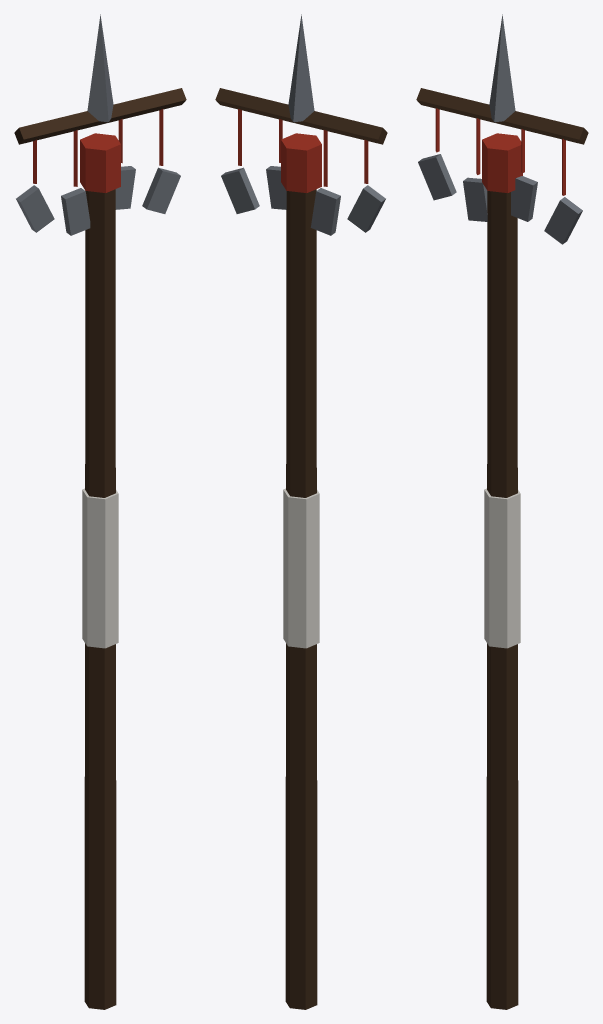
The model's file is weapon_staff.glb.
3 renders of one model, left to right at view 1: azimuth 30°, elevation 25°; view 2: azimuth 150°, elevation 25°; view 3: azimuth 330°, elevation 25°, orthographic.
Parts seen in each view (by area): view 1: elephant_weapon_staff; view 2: elephant_weapon_staff; view 3: elephant_weapon_staff.
Part boxes in pixels (x1,y1,x2,y2): elephant_weapon_staff: (14, 14, 186, 1009); elephant_weapon_staff: (215, 14, 387, 1009); elephant_weapon_staff: (416, 14, 588, 1009).
Size of the model in its own units: 0.2413 by 1.39 by 0.0522.
